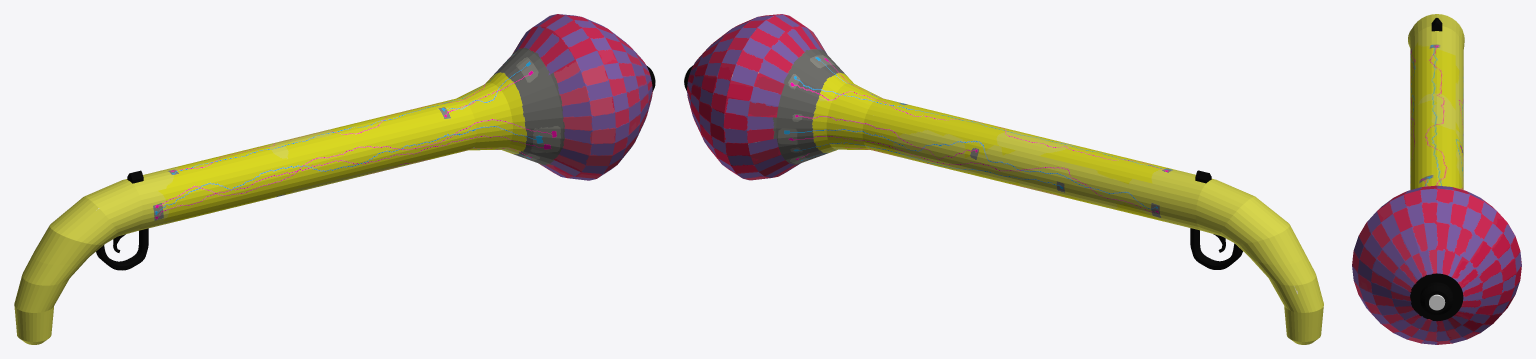
The model's file is gun.fbx.
The picture shows the model from 3 angles, left to right: view 1: azimuth 30°, elevation 25°; view 2: azimuth 150°, elevation 25°; view 3: azimuth 270°, elevation 25°; orthographic projection.
Parts seen in each view (by area): view 1: gun; view 2: gun; view 3: gun, holemaker.
Part boxes in pixels (bbox=[...]): gun: bbox=[14, 14, 655, 344]; gun: bbox=[684, 14, 1323, 344]; gun: bbox=[1352, 14, 1521, 344]; holemaker: bbox=[1429, 294, 1445, 310].
Bounding box in the file's own units: 3660 × 1044 × 852.
